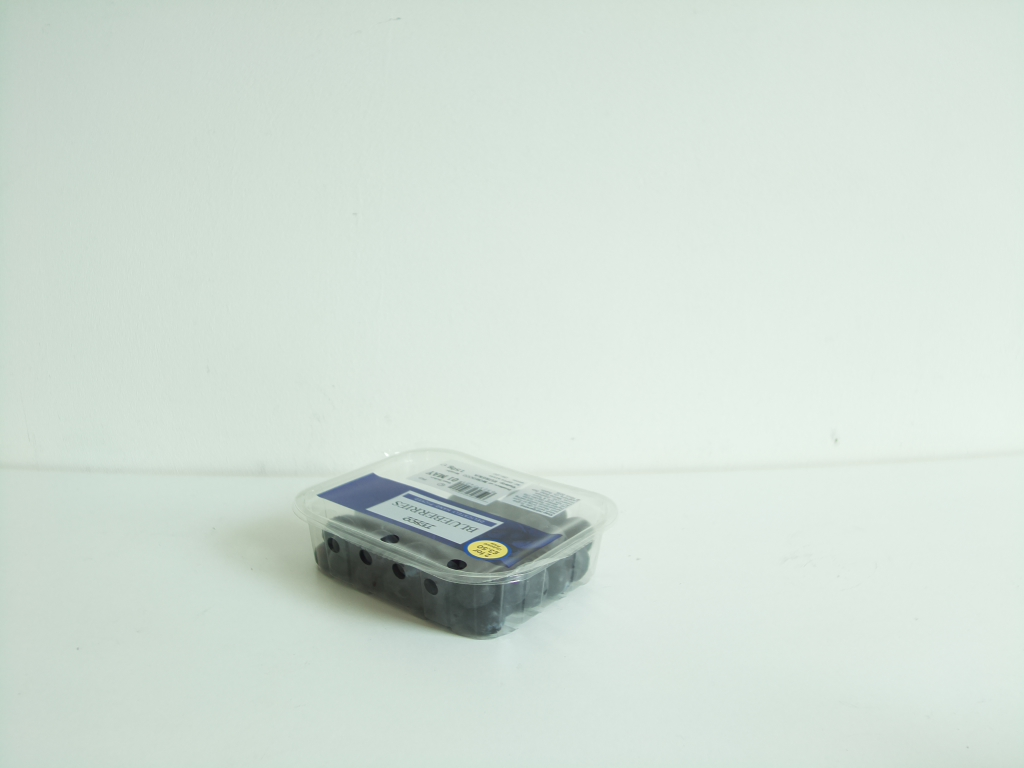soft-fruit: (291, 452, 617, 642)
